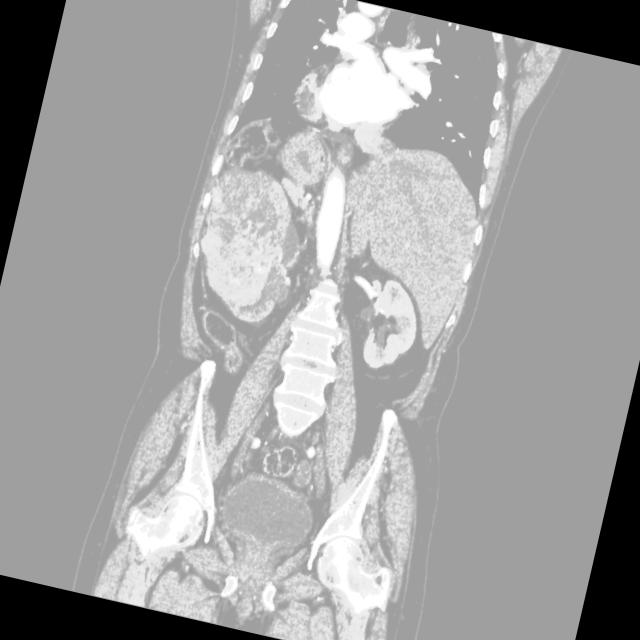TUMOR: (86, 150, 492, 438)
